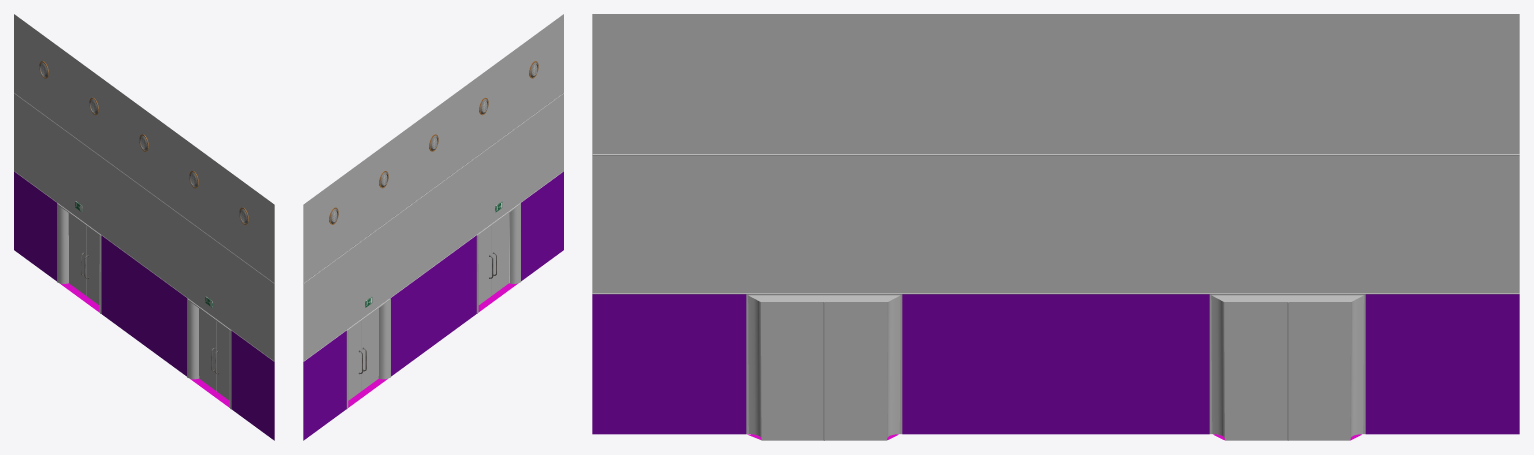
The model's file is mesh_wall_02.FBX.
3 renders of one model, left to right at view 1: azimuth 30°, elevation 25°; view 2: azimuth 150°, elevation 25°; view 3: azimuth 270°, elevation 25°, orthographic. The views are drawn at different scales.
Parts seen in each view (by area): view 1: mesh_wall_02; view 2: mesh_wall_02; view 3: mesh_wall_02.
Part boxes in pixels (x1,y1,x2,y2): mesh_wall_02: (14,14,274,440); mesh_wall_02: (303,14,563,440); mesh_wall_02: (592,14,1519,440).
Bounding box in the file's own units: 0.3735 × 9 × 18.
